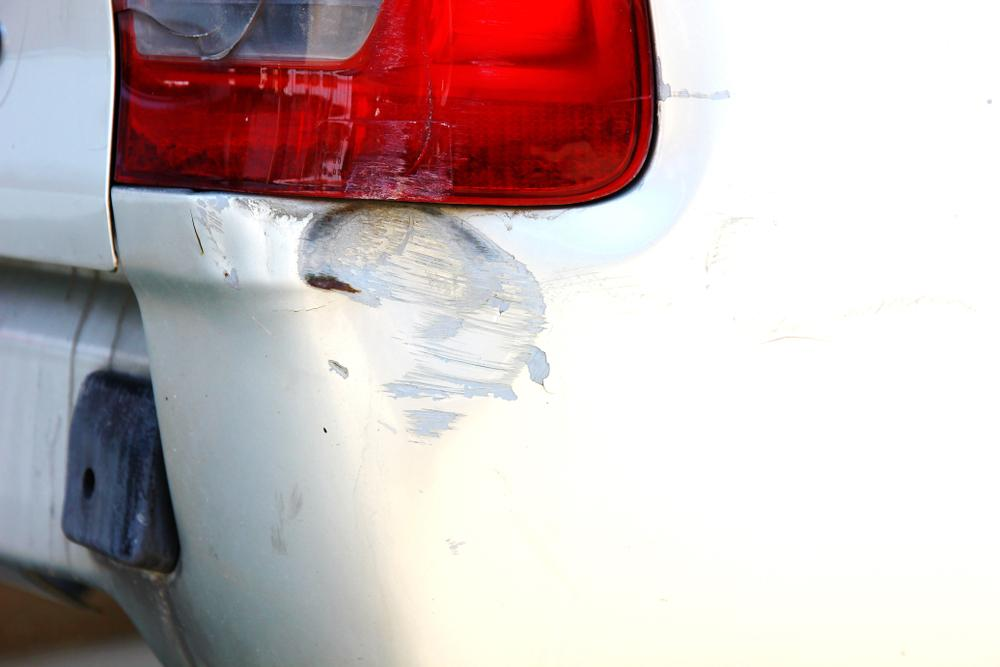dent: (296, 203, 543, 437)
lamp broken: (110, 0, 657, 209)
scratch: (192, 195, 334, 298)
